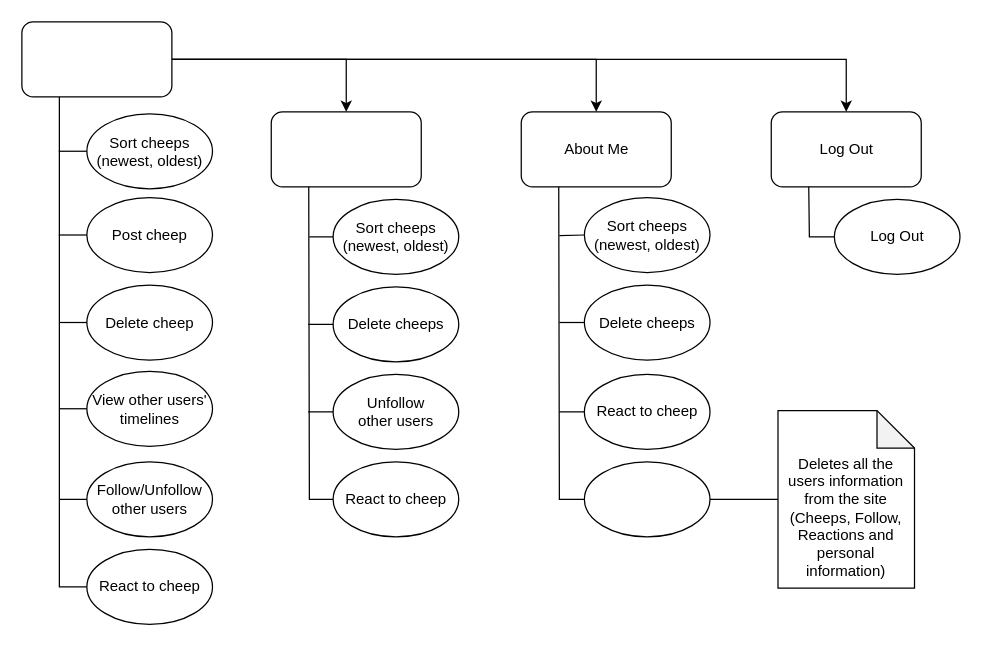
The diagram is 983 pixels wide and 646 high, and some of its shapes have lost their labels. Each missing label, with the box of its shape:
'Forget Me': (583, 461, 710, 537)
Home page (public timeline): (21, 21, 172, 97)
My Timeline: (270, 111, 421, 187)
